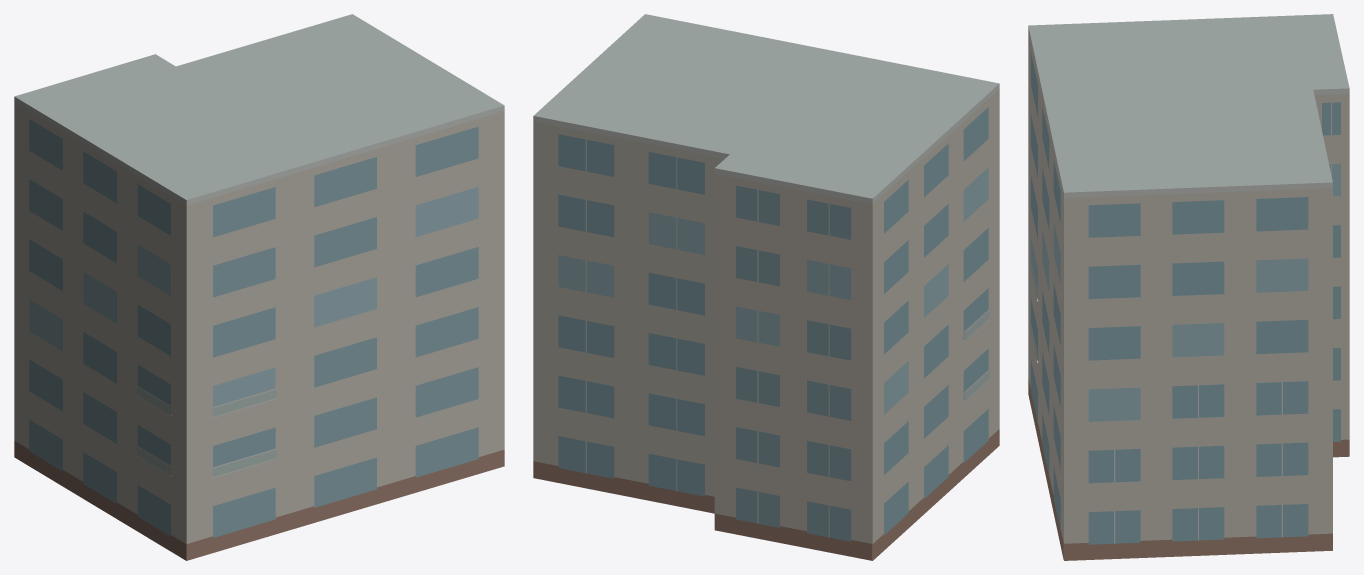
The model's file is survey-upis-32740567.glb.
3 renders of one model, left to right at view 1: azimuth 30°, elevation 25°; view 2: azimuth 150°, elevation 25°; view 3: azimuth 270°, elevation 25°, orthographic. The views are drawn at different scales.
Parts seen in each view (by area): view 1: survey-upis-32740567.tmp; view 2: survey-upis-32740567.tmp; view 3: survey-upis-32740567.tmp.
Boxes of the visible parts, <box> form: survey-upis-32740567.tmp: <box>14,14,504,560</box>; survey-upis-32740567.tmp: <box>533,14,999,560</box>; survey-upis-32740567.tmp: <box>1028,14,1349,560</box>.
Bounding box in the file's own units: 16.81 × 16.15 × 12.78.
